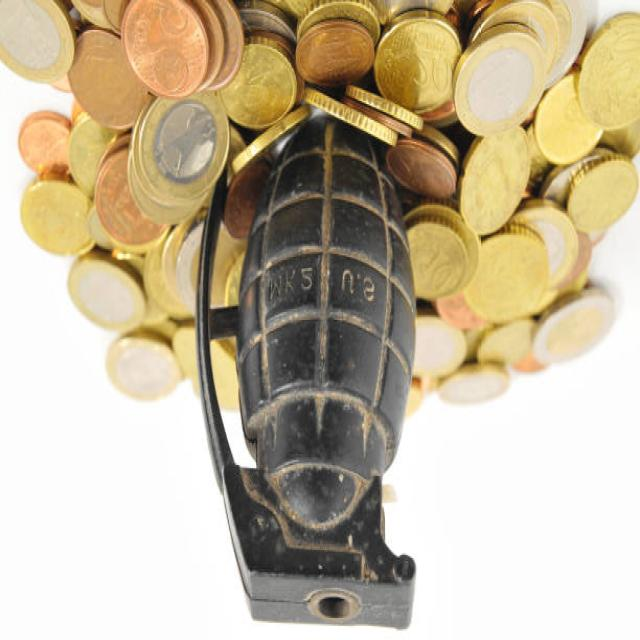grenade: (192, 112, 438, 640)
